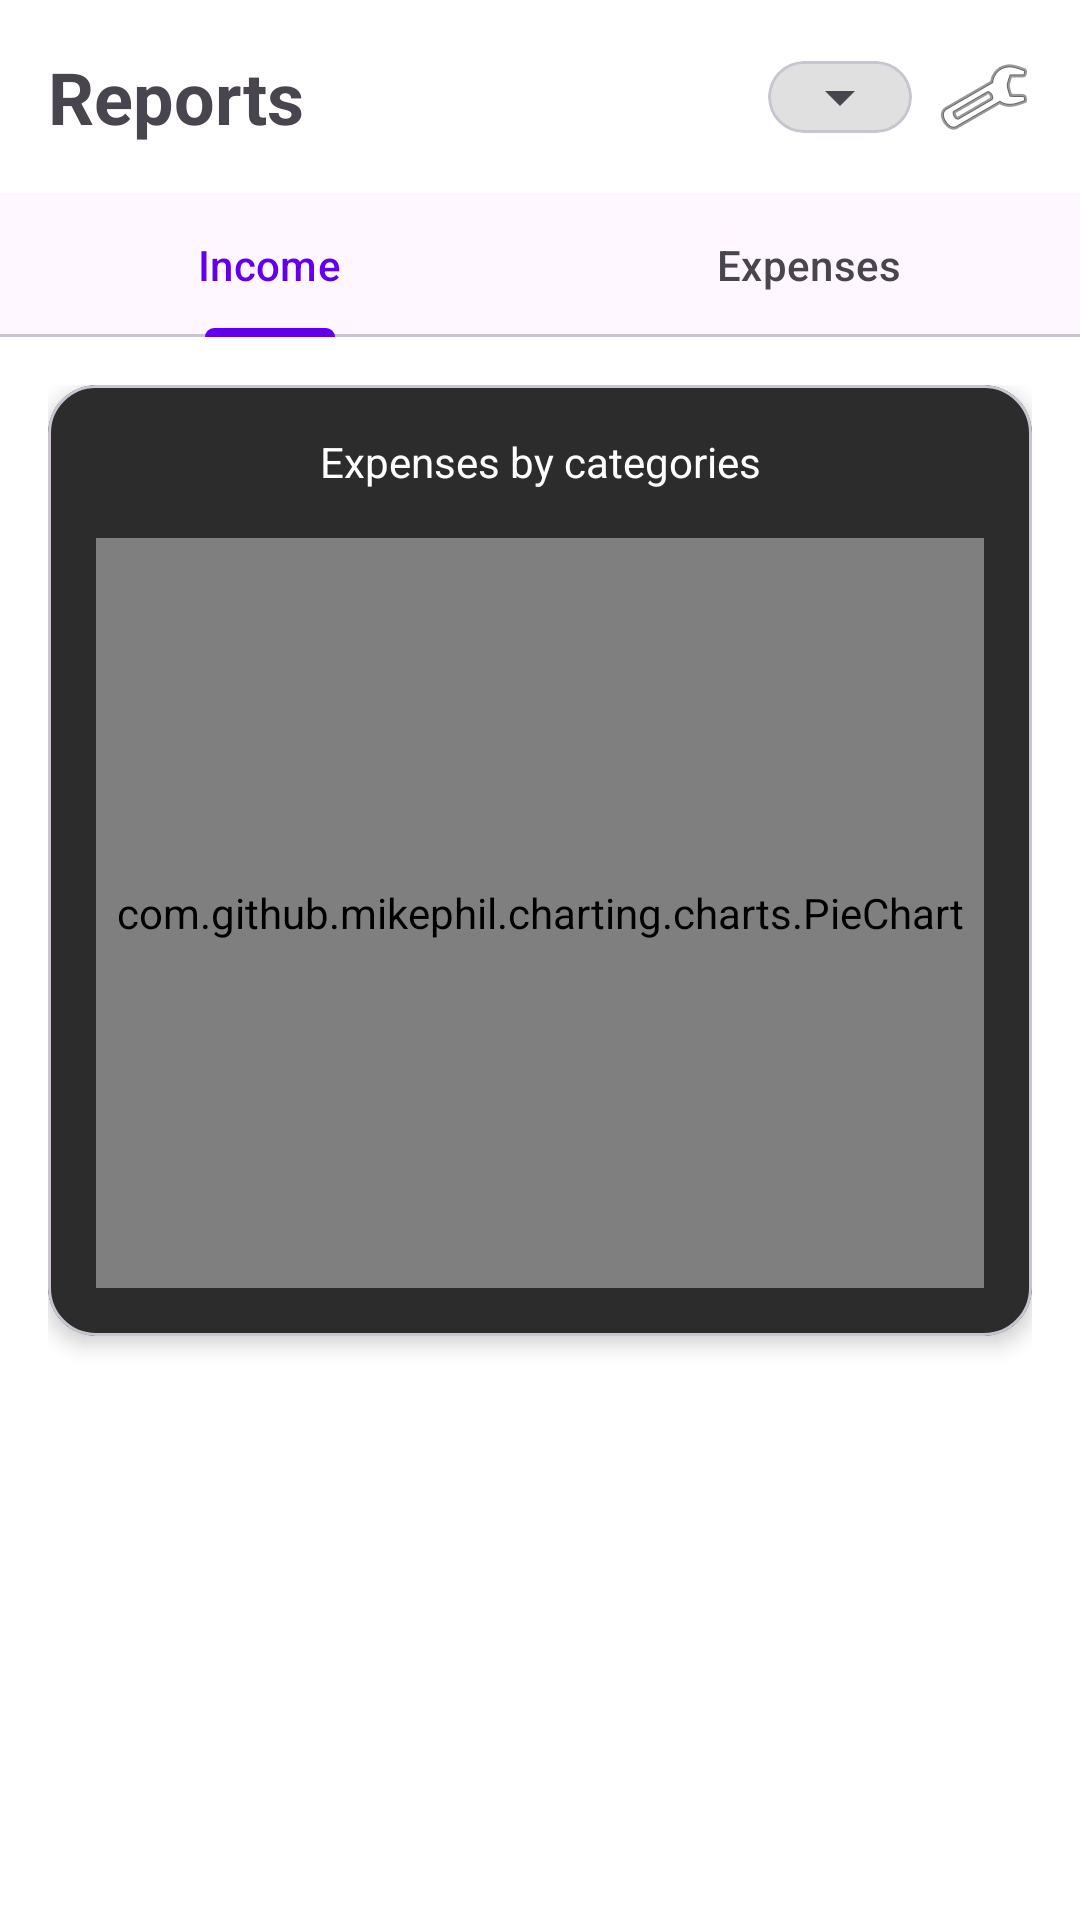

Icons on this 1080px×1920px Android screen, each with its box as (x1, y1, x2, y2):
preferences: (941, 64, 1027, 130)
